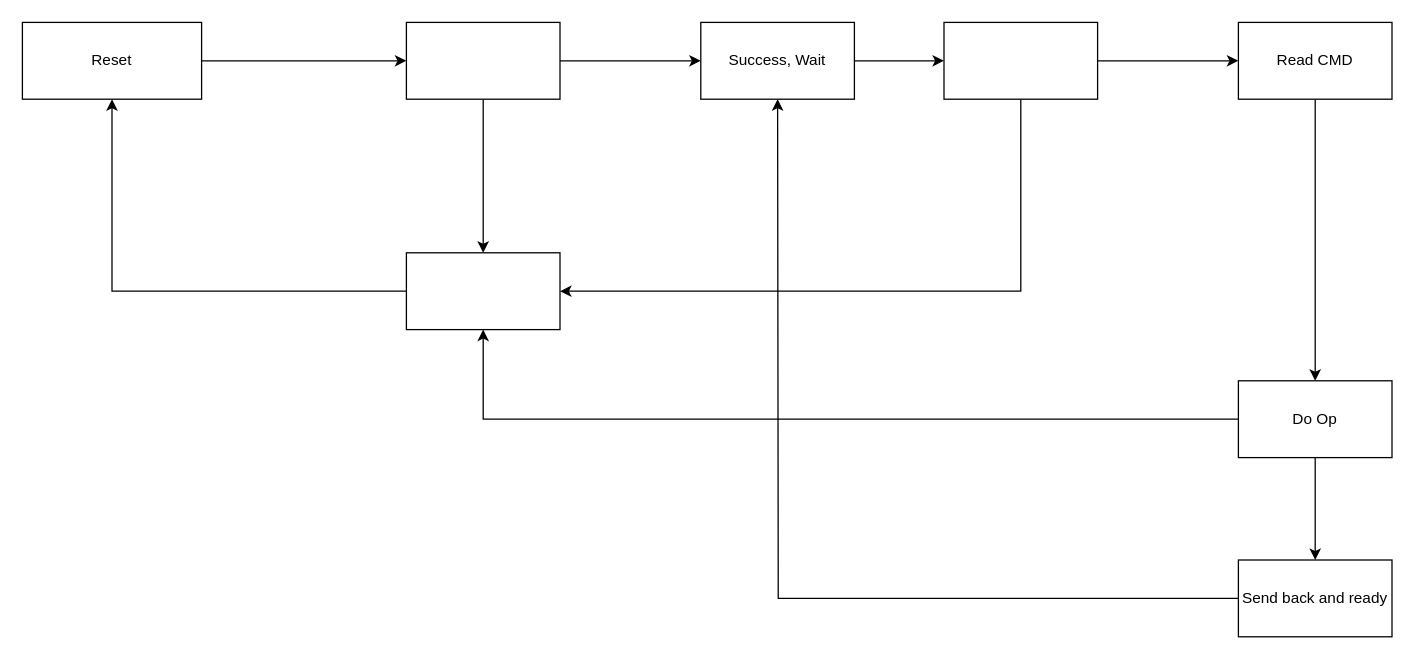
This 1414x659 diagram has some shape labels left out. The centre of each missing label's shape, as x and y in pixels:
"Failed" goes at pixel 482 291.
"Start" goes at pixel 482 60.
"Transfer CMD" goes at pixel 1020 60.
